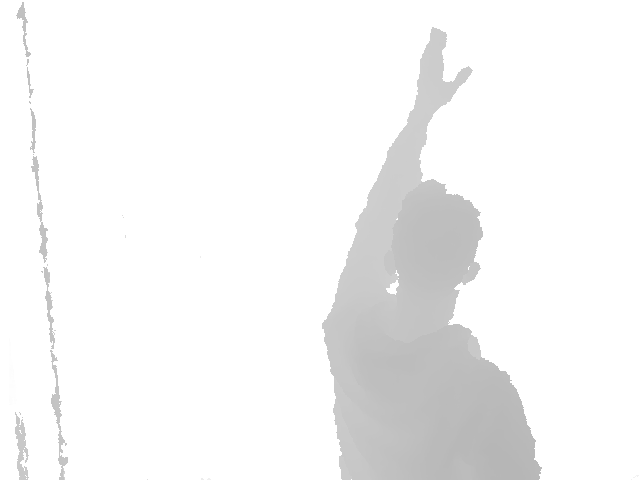hand: (417, 28, 473, 109)
head: (382, 179, 484, 299)
person: (321, 27, 542, 480)
